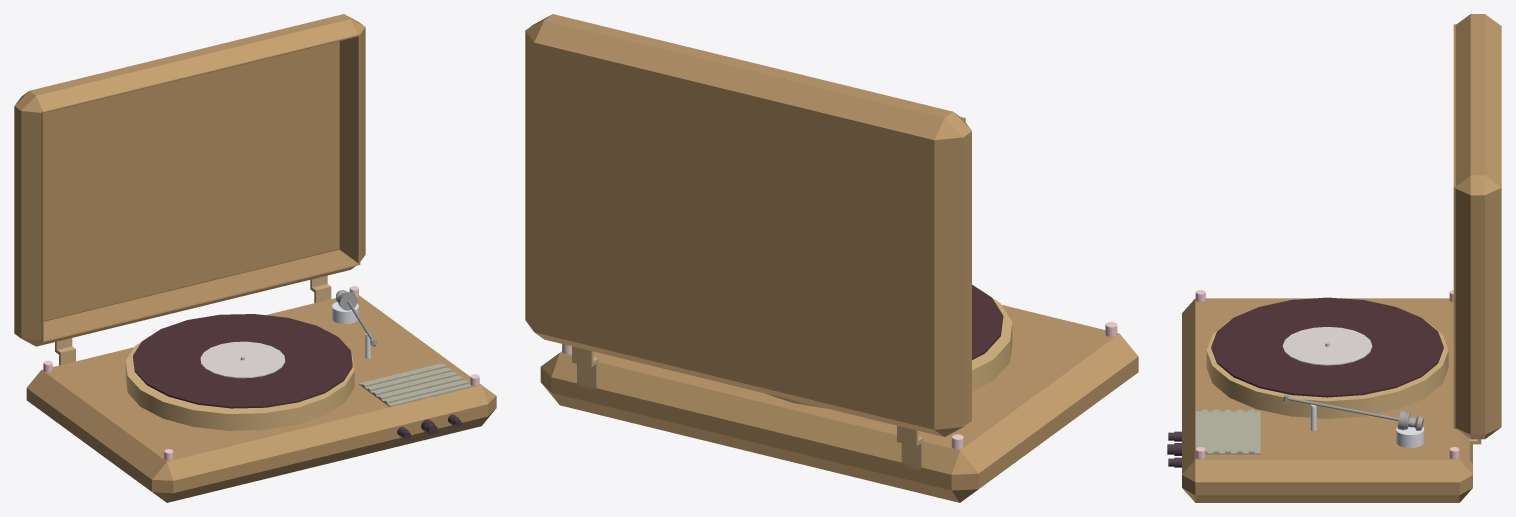
File: RecordPlayer 1.fbx
The picture shows the model from 3 angles, left to right: view 1: azimuth 30°, elevation 25°; view 2: azimuth 150°, elevation 25°; view 3: azimuth 270°, elevation 25°; orthographic projection. The views are drawn at different scales.
Visible parts, largest first — view 1: recordPlayer; view 2: recordPlayer; view 3: recordPlayer.
Part boxes in pixels (x1=…): recordPlayer: x1=14, y1=14, x2=496, y2=502; recordPlayer: x1=525, y1=14, x2=1138, y2=502; recordPlayer: x1=1167, y1=14, x2=1501, y2=502.
Size of the model in its own units: 3.71 by 3.2 by 2.97.
